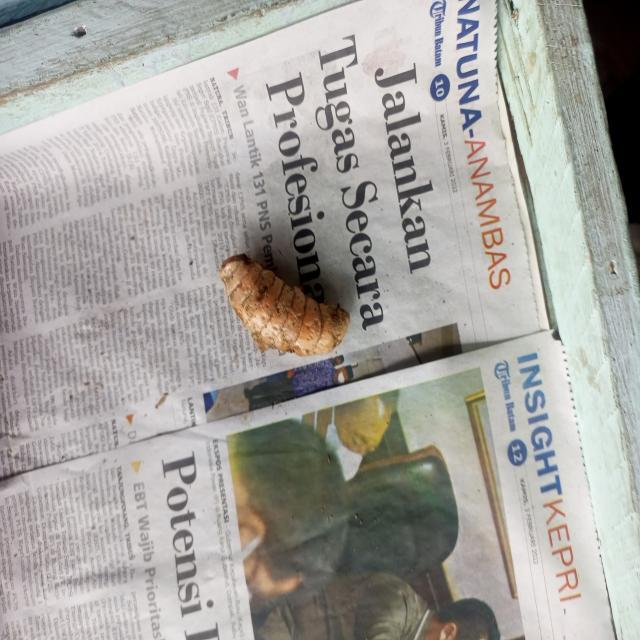ginger: (222, 252, 354, 351)
